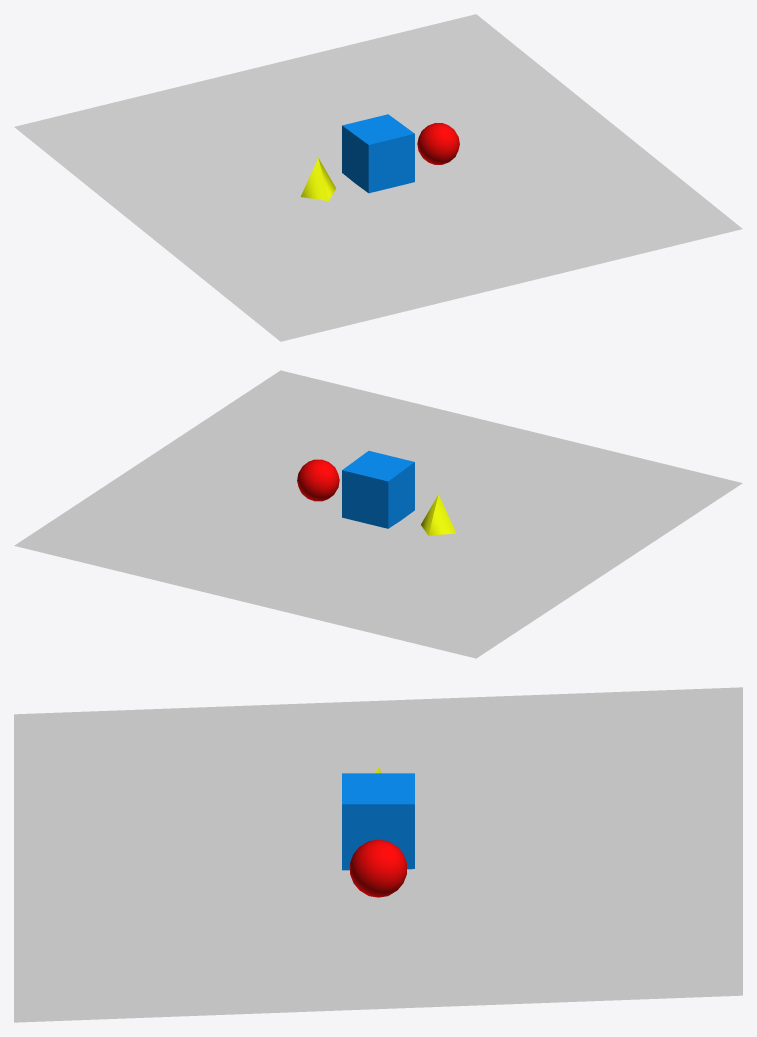
3 views of the same model, one above another, from view 1: azimuth 30°, elevation 25°; view 2: azimuth 150°, elevation 25°; view 3: azimuth 270°, elevation 25° (orthographic). The views are drawn at different scales.
Visible parts, largest first — view 1: Plane, Box, Icosahedron, Cylinder; view 2: Plane, Box, Icosahedron, Cylinder; view 3: Plane, Box, Icosahedron.
Boxes of the visible parts, bbox=[...] form: Plane: bbox=[14, 14, 742, 341]; Box: bbox=[342, 114, 414, 193]; Icosahedron: bbox=[417, 123, 459, 164]; Cylinder: bbox=[300, 158, 335, 200]; Plane: bbox=[14, 370, 742, 658]; Box: bbox=[342, 451, 414, 528]; Icosahedron: bbox=[297, 459, 339, 501]; Cylinder: bbox=[421, 494, 456, 535]; Plane: bbox=[14, 687, 742, 1022]; Box: bbox=[342, 773, 414, 870]; Icosahedron: bbox=[350, 839, 406, 897].
Bounding box in the file's own units: 10 × 1.2 × 9.99.
